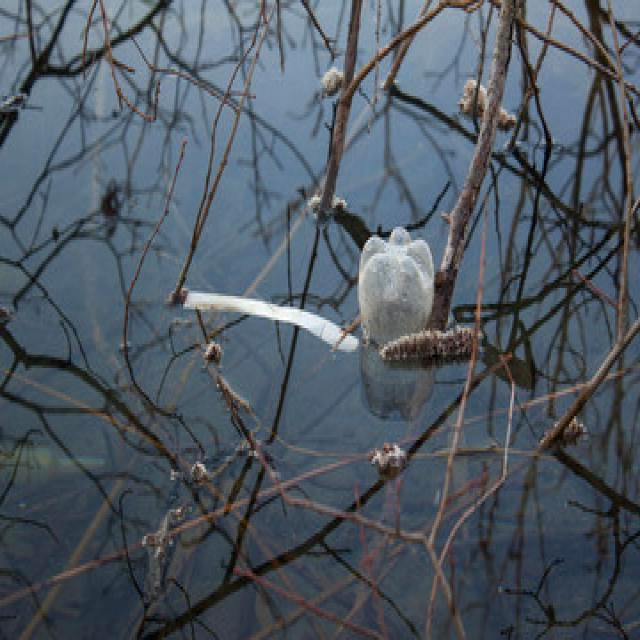Plastic: (357, 225, 442, 353)
Trash: (181, 286, 362, 359)
